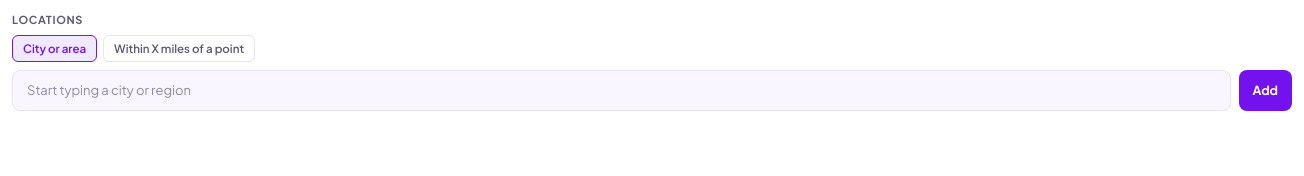
Test: LocationAreaInput place suggestions › Enter takes the highlighted suggestion
Later steps or results of the test are not shown.
Type "prag" into the dropdown at x=621, y=91, box [12,70,1230,111]
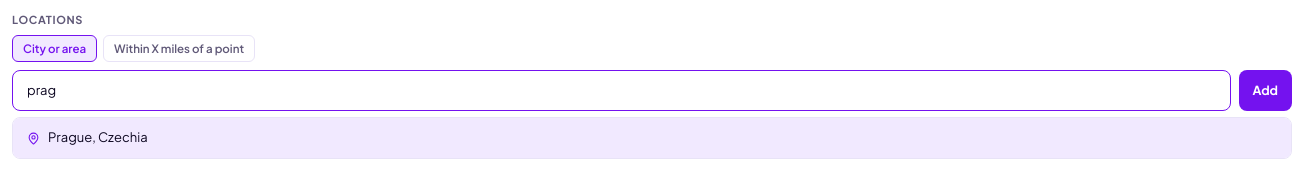
Now the option "Prague, Czechia" is shown, box [13,118,1291,158]
